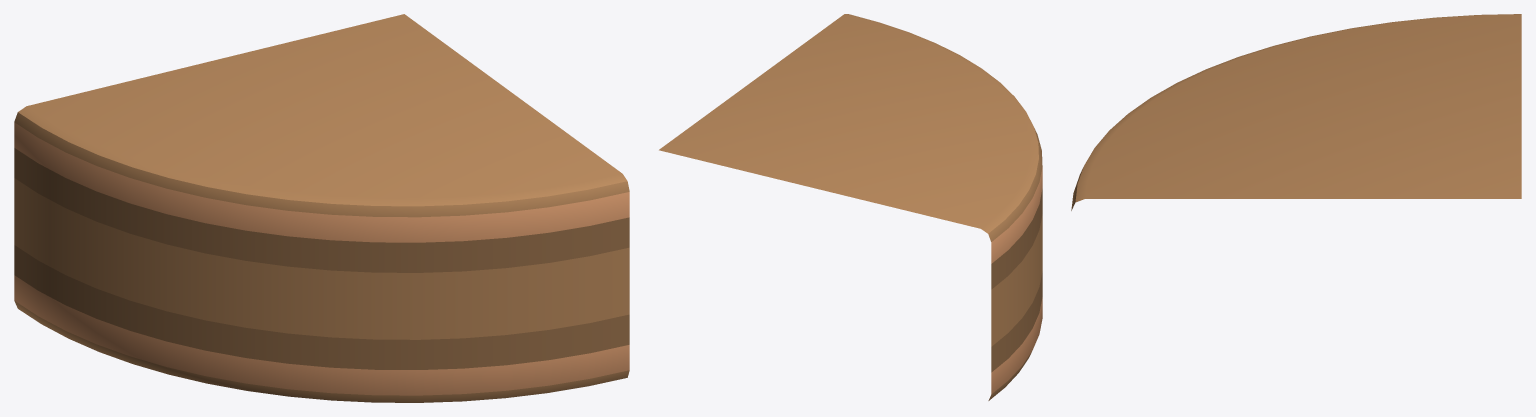
The model's file is platform_dirt_corner_round2.gltf.
3 renders of one model, left to right at view 1: azimuth 30°, elevation 25°; view 2: azimuth 150°, elevation 25°; view 3: azimuth 270°, elevation 25°, orthographic. The views are drawn at different scales.
Visible parts, largest first — view 1: Cube_Dirt_Corner_Round2; view 2: Cube_Dirt_Corner_Round2; view 3: Cube_Dirt_Corner_Round2.
Boxes of the visible parts, bbox=[...] form: Cube_Dirt_Corner_Round2: bbox=[14, 14, 629, 402]; Cube_Dirt_Corner_Round2: bbox=[659, 14, 1042, 400]; Cube_Dirt_Corner_Round2: bbox=[1071, 14, 1521, 210].
Size of the model in its own units: 4 by 2 by 4.
